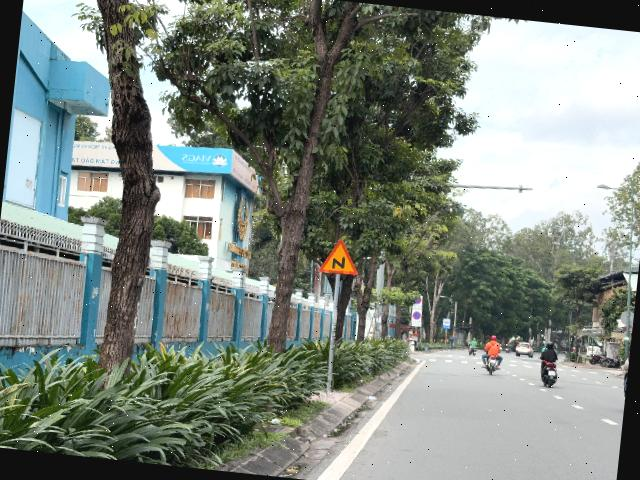nhieu-cho-ngoat-nguy-hiem-lien-tiep: (319, 238, 361, 276)
